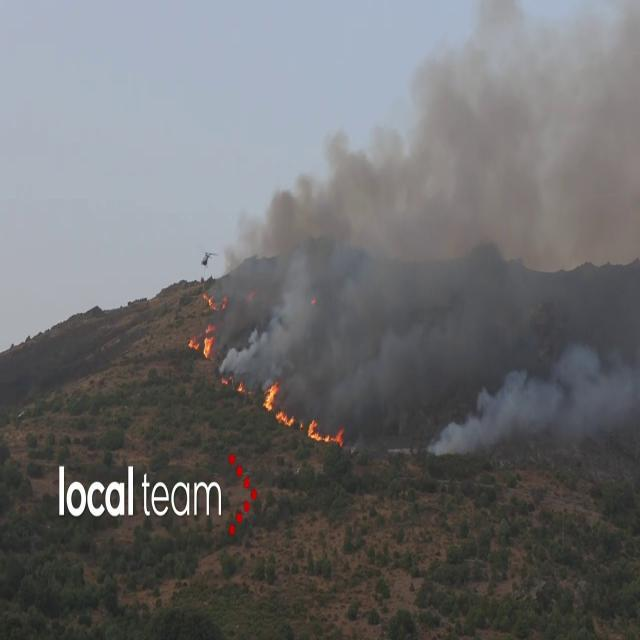Fire: (306, 413, 346, 448), (261, 377, 287, 423)
Smoke: (218, 21, 640, 450), (436, 320, 640, 456)
